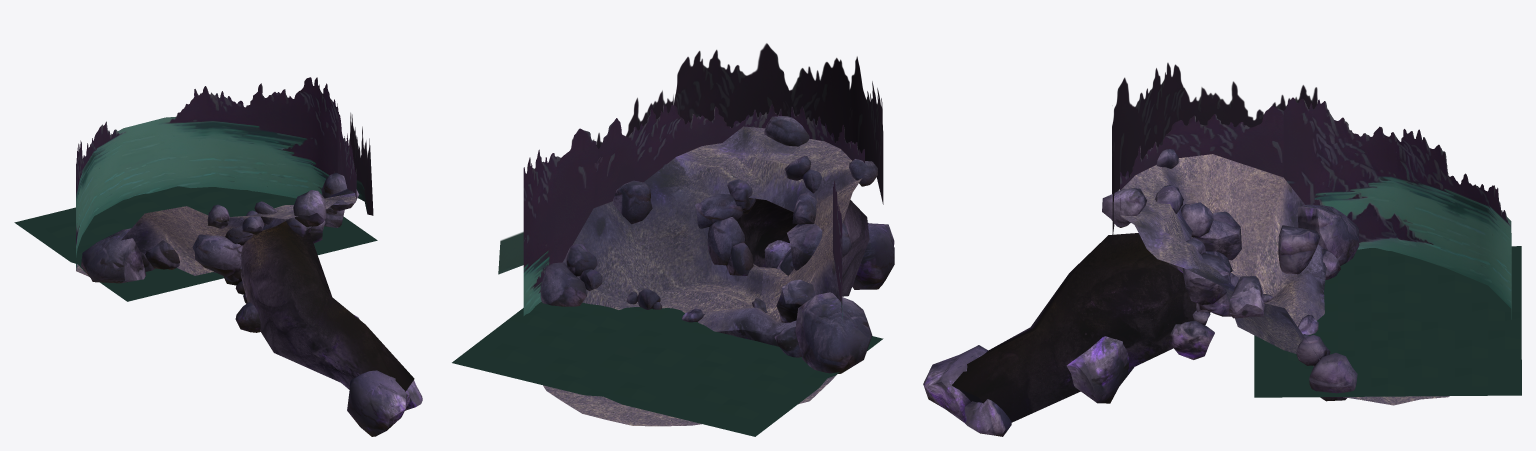
File: oceanFinish.glb
3 views of the same model, side by side, from view 1: azimuth 30°, elevation 25°; view 2: azimuth 150°, elevation 25°; view 3: azimuth 270°, elevation 25° (orthographic). The views are drawn at different scales.
Parts seen in each view (by area): view 1: caveBeachBG00, caveBeachGround, rocks, water00, caveBeachBG01; view 2: caveBeachGround, water00, rocks, caveBeachBG00, caveBeachBG01; view 3: caveBeachGround, caveBeachBG00, water00, rocks, caveBeachBG01.
Boxes of the visible parts, x1,y1,x2,y2 form: caveBeachBG00: [76, 77, 356, 268]; caveBeachGround: [76, 189, 414, 391]; rocks: [81, 172, 422, 436]; water00: [14, 186, 377, 301]; caveBeachBG01: [349, 112, 373, 215]; caveBeachGround: [543, 126, 869, 426]; water00: [452, 302, 883, 436]; rocks: [540, 116, 894, 373]; caveBeachBG00: [523, 104, 864, 318]; caveBeachBG01: [498, 43, 883, 274]; caveBeachGround: [952, 154, 1449, 422]; caveBeachBG00: [1120, 97, 1511, 319]; water00: [1254, 246, 1521, 397]; rocks: [923, 149, 1359, 436]; caveBeachBG01: [1112, 62, 1317, 236].
Size of the model in its own units: 28.25 by 25.6 by 42.8.
Materials: 5 (4 with a texture image).
